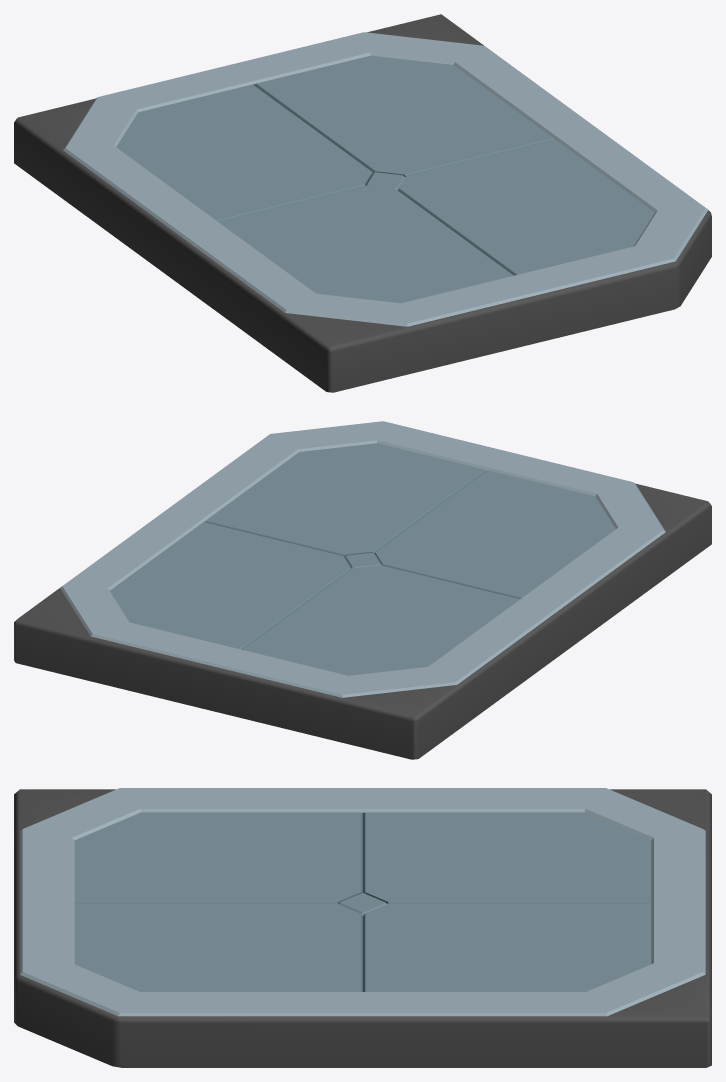
Rendered from platform_004.fbx.
3 renders of one model, top to bottom at view 1: azimuth 30°, elevation 25°; view 2: azimuth 150°, elevation 25°; view 3: azimuth 270°, elevation 25°, orthographic. The views are drawn at different scales.
Visible parts, largest first — view 1: platform_004; view 2: platform_004; view 3: platform_004.
Boxes of the visible parts, bbox=[...] form: platform_004: bbox=[14, 14, 711, 392]; platform_004: bbox=[14, 421, 711, 759]; platform_004: bbox=[14, 788, 711, 1067].
Size of the model in its own units: 1000 by 1276 by 105.
